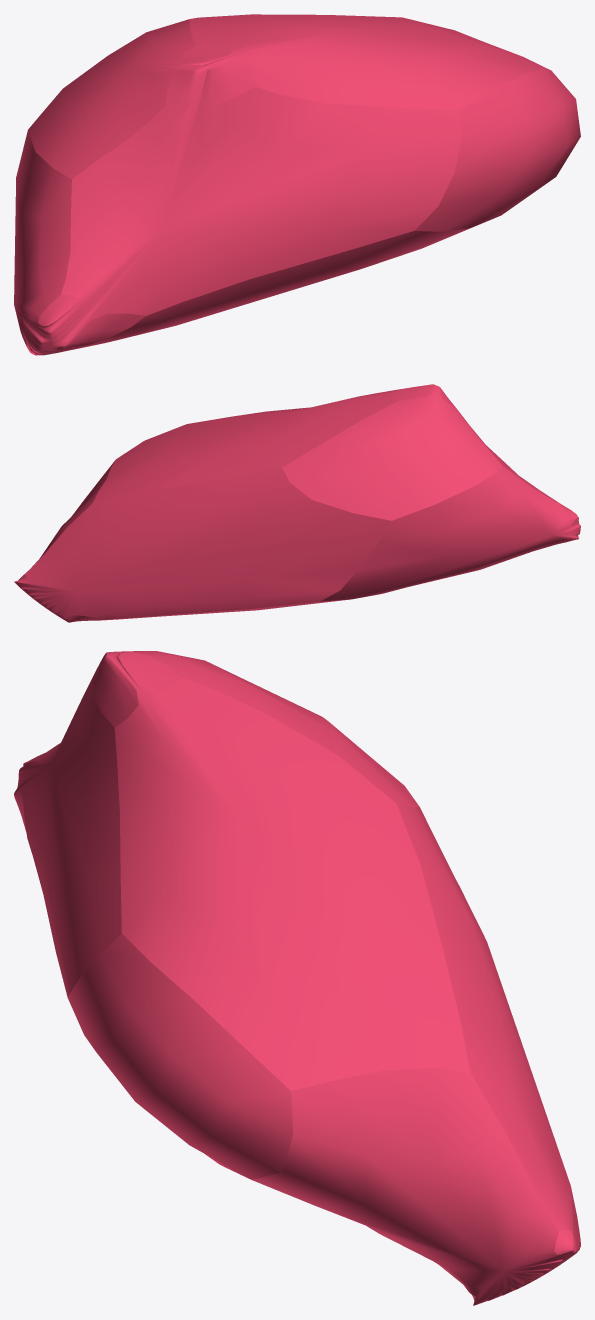
File: alien_rock.fbx
3 renders of one model, top to bottom at view 1: azimuth 30°, elevation 25°; view 2: azimuth 150°, elevation 25°; view 3: azimuth 270°, elevation 25°, orthographic. The views are drawn at different scales.
Parts seen in each view (by area): view 1: Cube; view 2: Cube; view 3: Cube.
Boxes of the visible parts, x1,y1,x2,y2 form: Cube: (14,14,580,355); Cube: (14,384,580,622); Cube: (14,651,580,1305).
Size of the model in its own units: 351 by 171 by 220.
